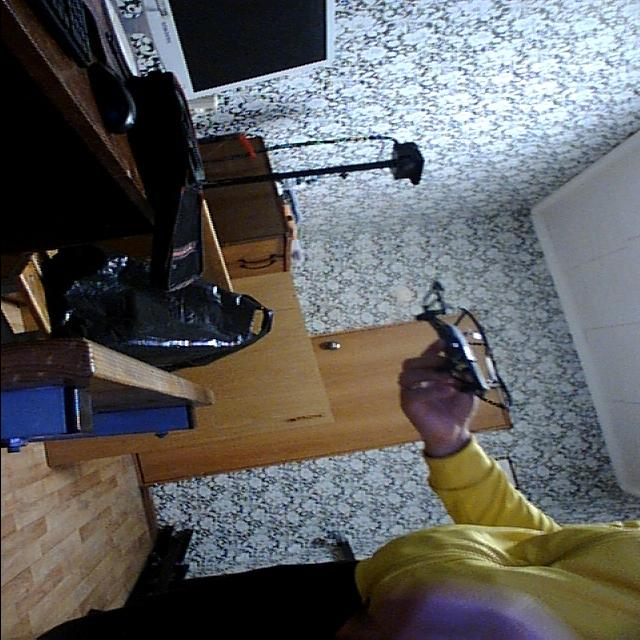drone: (404, 277, 512, 425)
